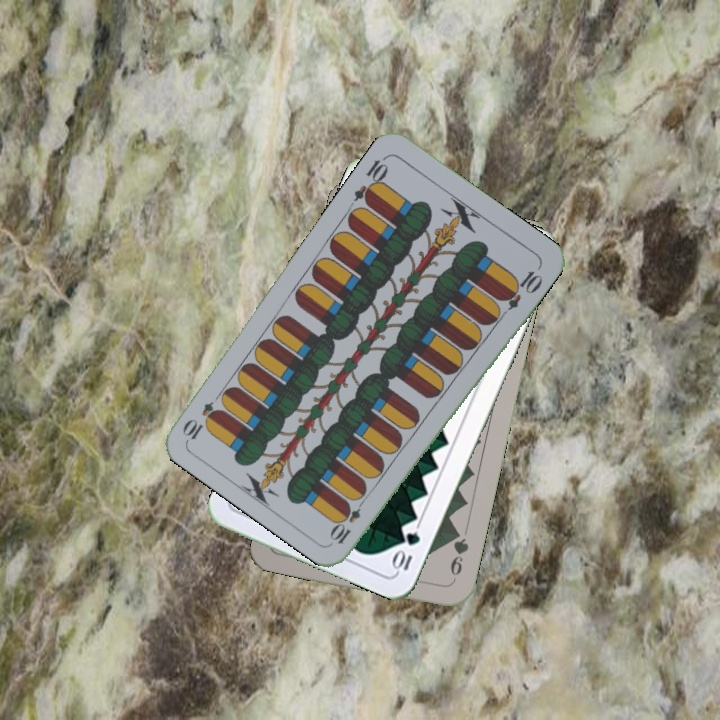E10: (349, 152, 392, 208), (327, 492, 369, 547)
G10: (389, 528, 423, 574)
G9: (446, 526, 472, 578)
